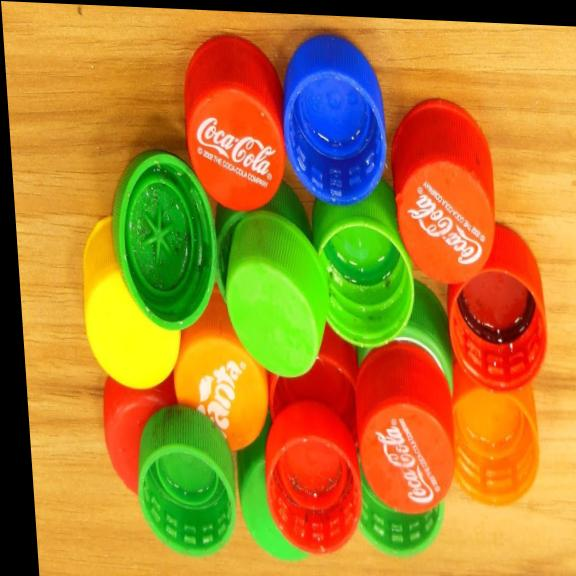Plastik: (389, 95, 495, 284), (110, 148, 216, 329), (182, 31, 287, 210), (281, 32, 387, 203), (354, 336, 454, 512), (224, 209, 328, 376), (81, 213, 180, 388), (311, 182, 413, 347), (447, 223, 547, 390), (135, 403, 238, 555), (174, 293, 264, 448), (264, 408, 359, 553), (452, 385, 539, 505)
